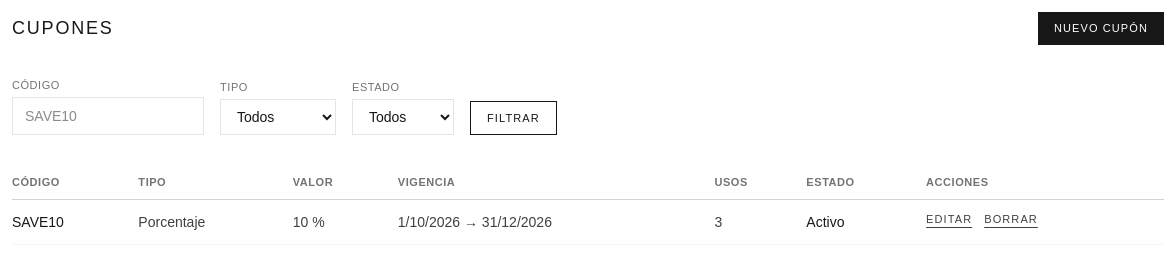
Scenario: AdminCouponsPage › borrar un cupón ya usado: 409 bajo la fila, sin toast y sin recarga
Expected: the text "SAVE10" is shown, [12,199,138,244]
Step 1. Click the button "Borrar" → (1011, 220), box [984,212,1038,227]
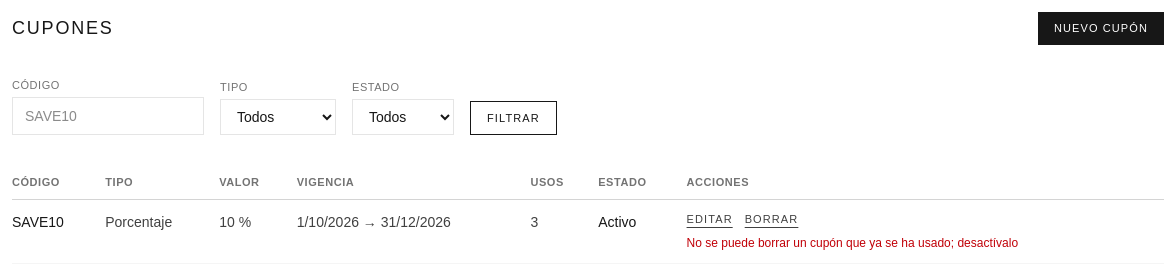
Now the text "No se puede borrar un cupón que ya se ha usado; desactívalo" is shown, box [687,236,1018,250]
